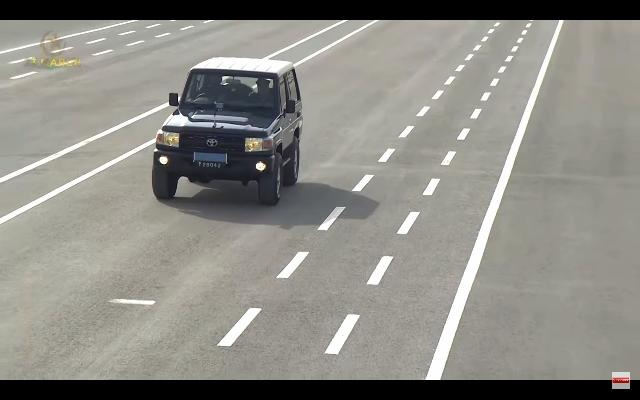plate: (197, 160, 226, 170)
